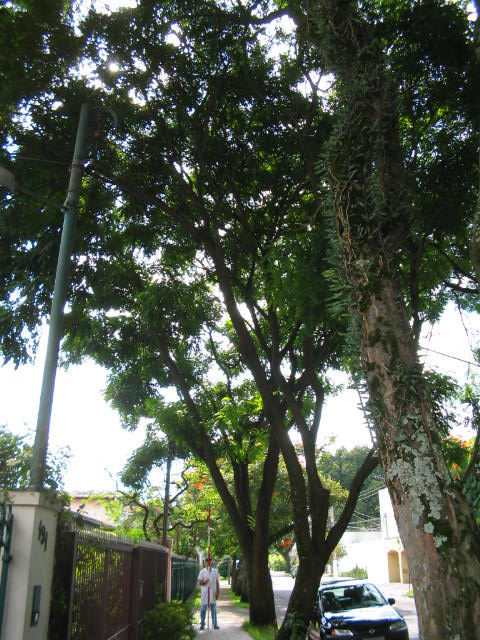stem: (277, 569, 329, 640), (241, 568, 278, 628)
stick: (203, 506, 213, 629)
